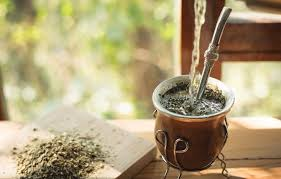guampa: (155, 5, 237, 173)
